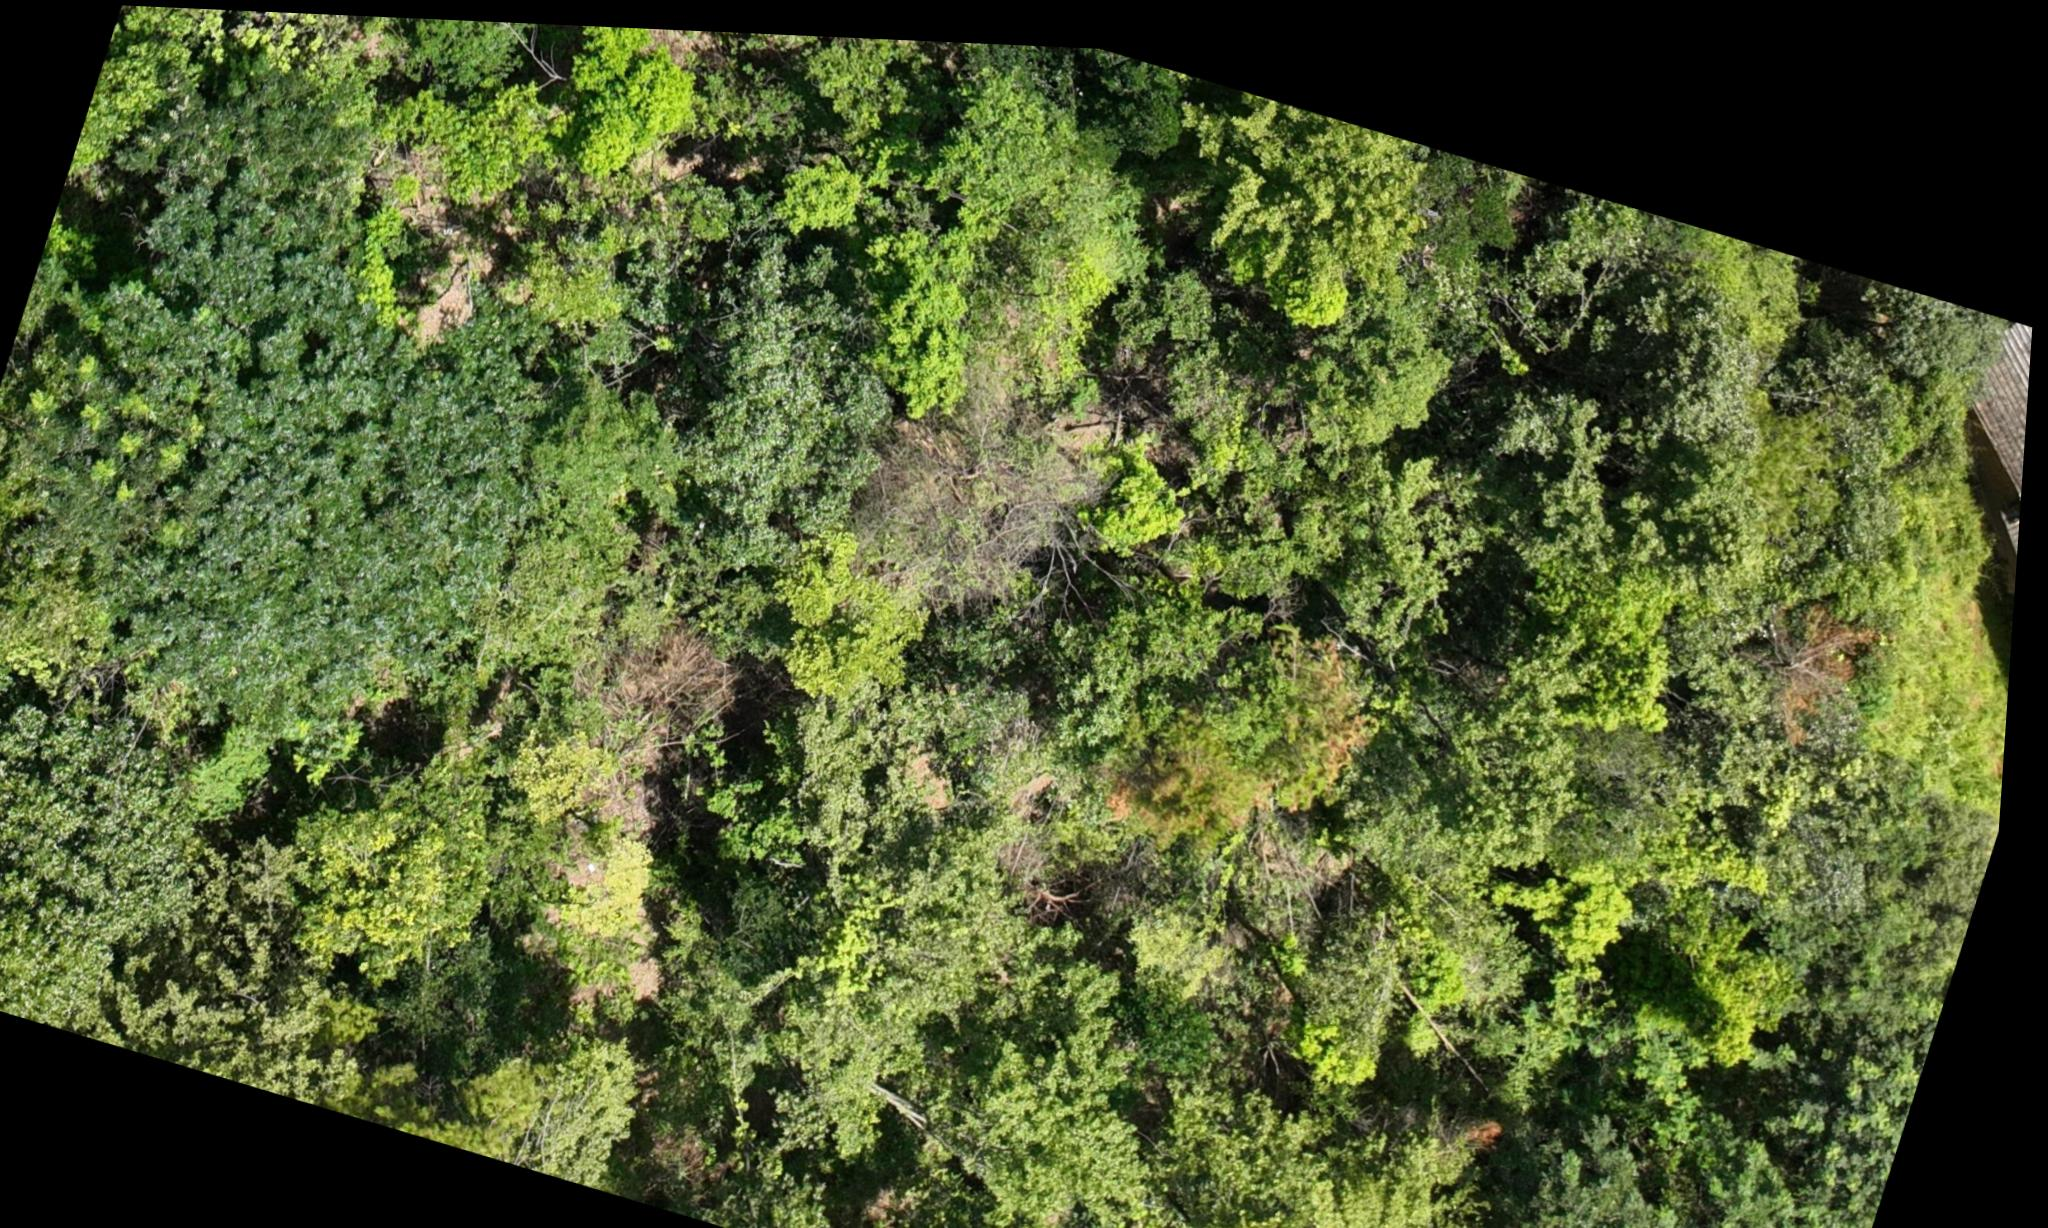heavy: (1742, 572, 1886, 737)
light: (1096, 576, 1406, 895)
